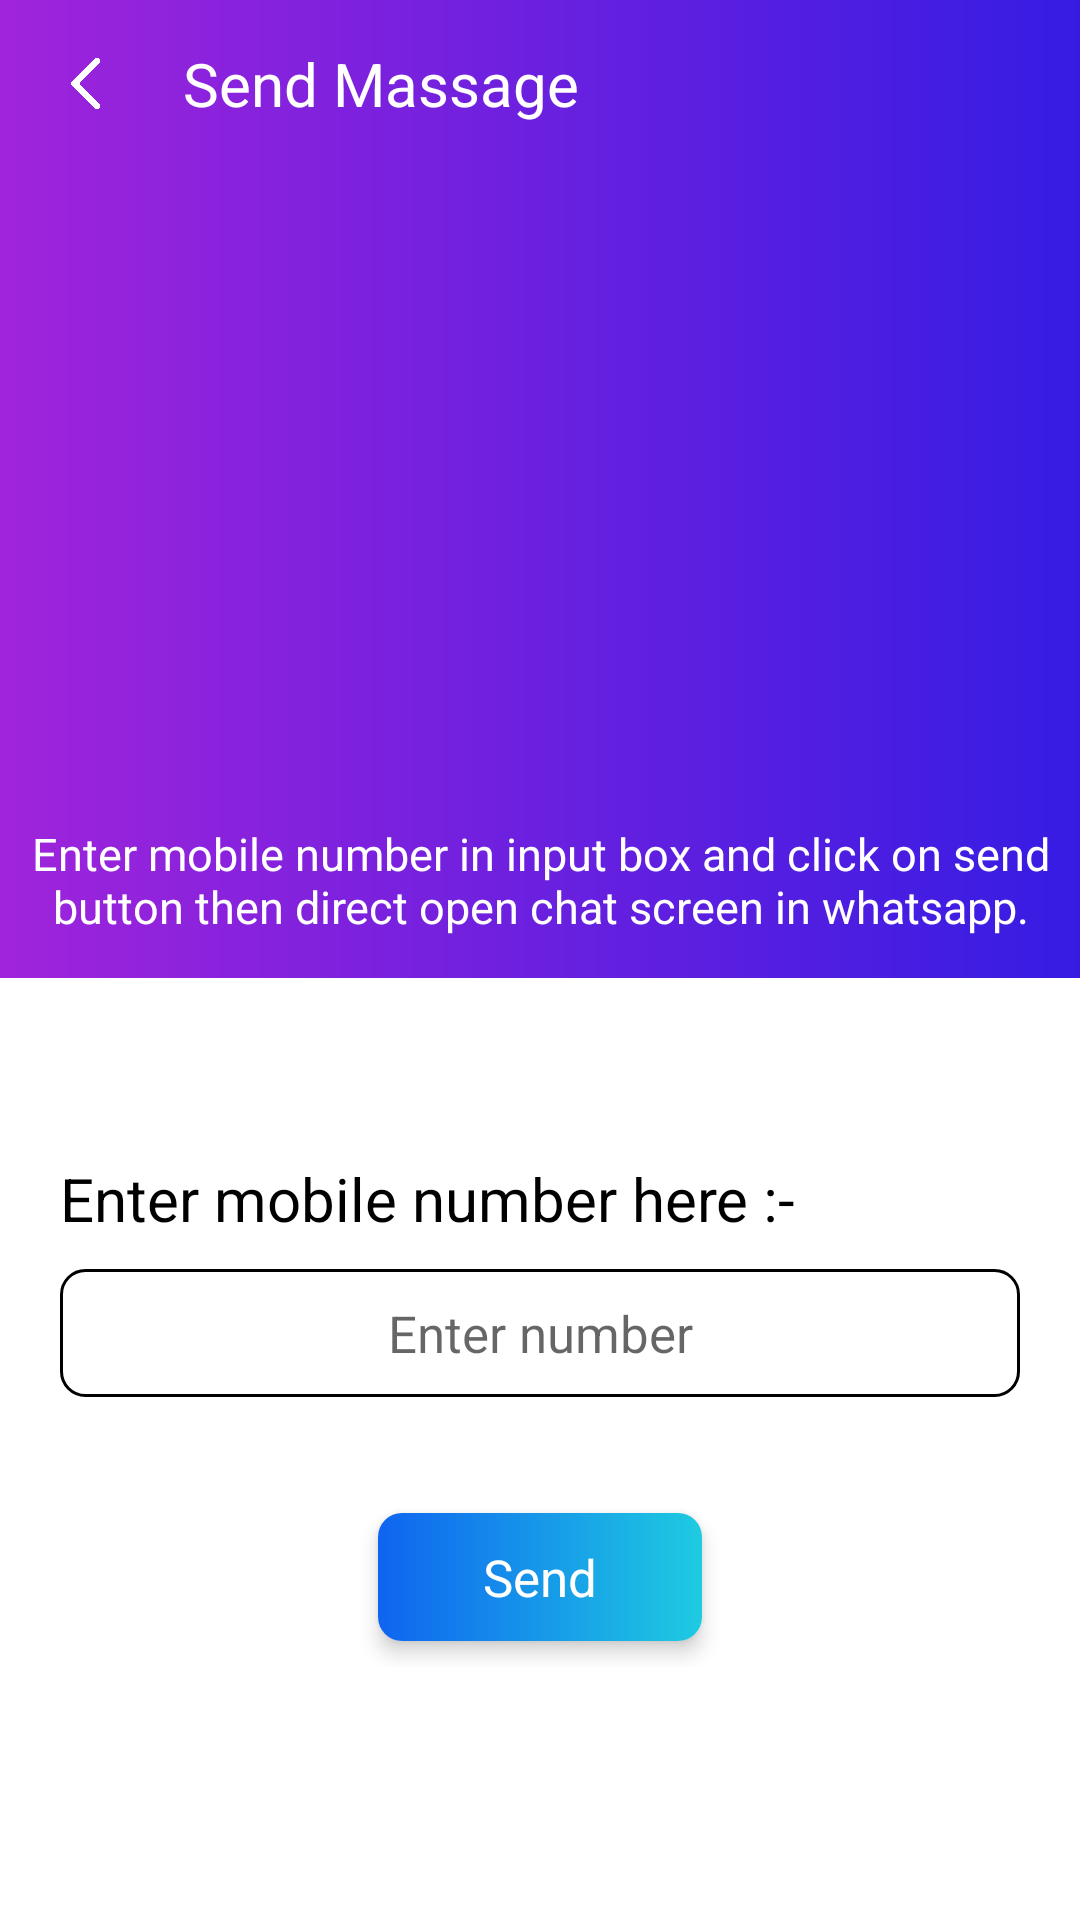

Where to tap for icons on this 1080 × 1920 app screen, as (x,y):
back: (85,83)
